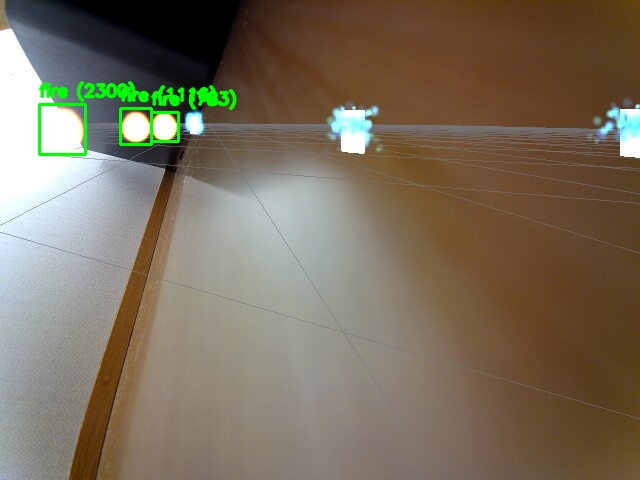fire: (39, 104, 85, 154), (120, 108, 151, 144), (151, 112, 178, 141)
